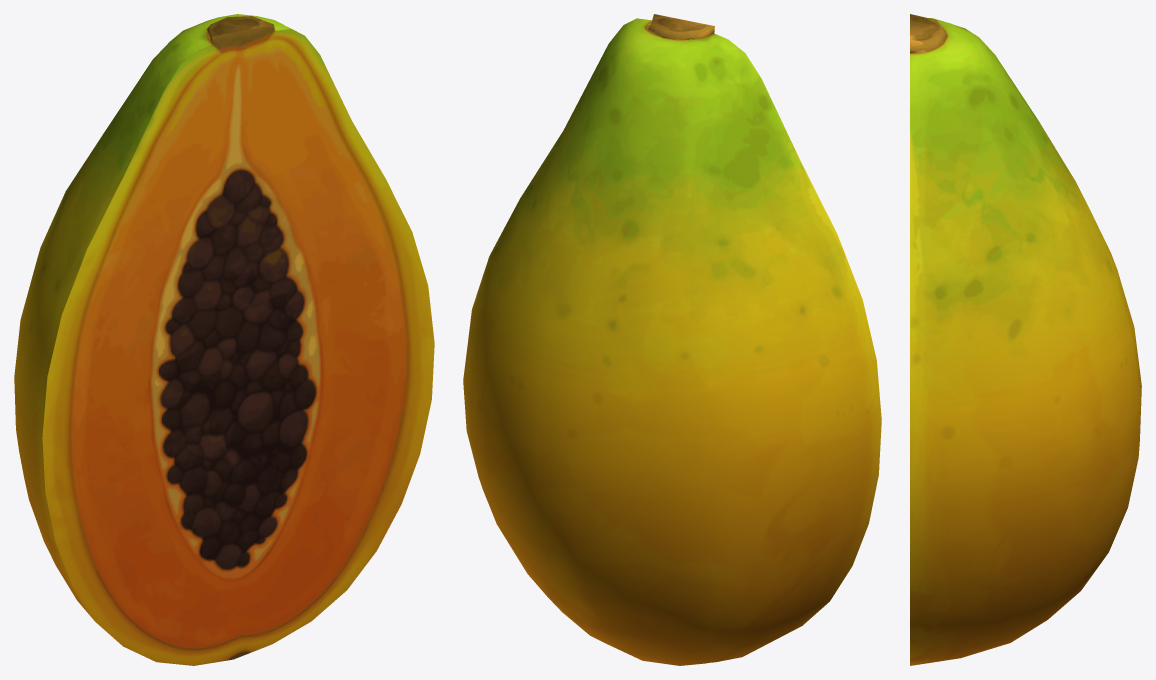
Rendered from SM_PapayaCutB.fbx.
The picture shows the model from 3 angles, left to right: view 1: azimuth 30°, elevation 25°; view 2: azimuth 150°, elevation 25°; view 3: azimuth 270°, elevation 25°; orthographic projection.
Visible parts, largest first — view 1: SM_PapayaCutB; view 2: SM_PapayaCutB; view 3: SM_PapayaCutB.
Boxes of the visible parts, box(x1,y1,x2,y2) form: SM_PapayaCutB: box(14, 14, 434, 665); SM_PapayaCutB: box(463, 14, 881, 665); SM_PapayaCutB: box(910, 14, 1141, 665).
Size of the model in its own units: 14.48 by 22.15 by 7.47.
